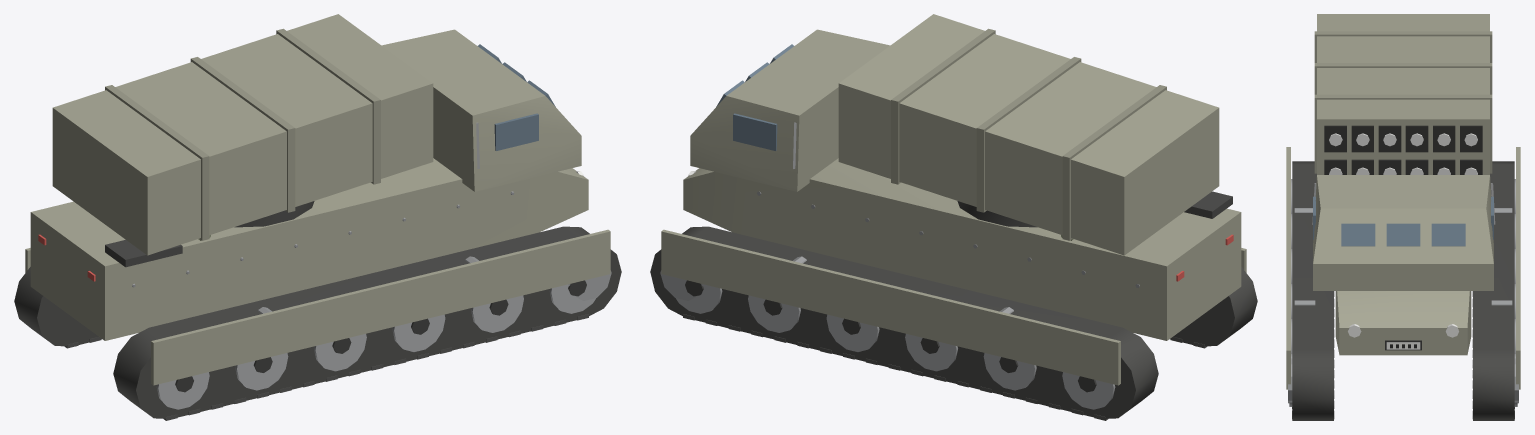
File: mlrs.glb
3 renders of one model, left to right at view 1: azimuth 30°, elevation 25°; view 2: azimuth 150°, elevation 25°; view 3: azimuth 270°, elevation 25°, orthographic. The views are drawn at different scales.
Visible parts, largest first — view 1: hull, turret; view 2: hull, turret; view 3: hull, turret.
Boxes of the visible parts, left/top/right/bottom form: hull: left=14, top=29, right=621, bottom=420; turret: left=52, top=14, right=433, bottom=255; hull: left=650, top=29, right=1257, bottom=420; turret: left=838, top=14, right=1219, bottom=255; hull: left=1286, top=147, right=1520, bottom=420; turret: left=1314, top=14, right=1492, bottom=174.
Size of the model in its own units: 6.92 by 3.47 by 3.11.
